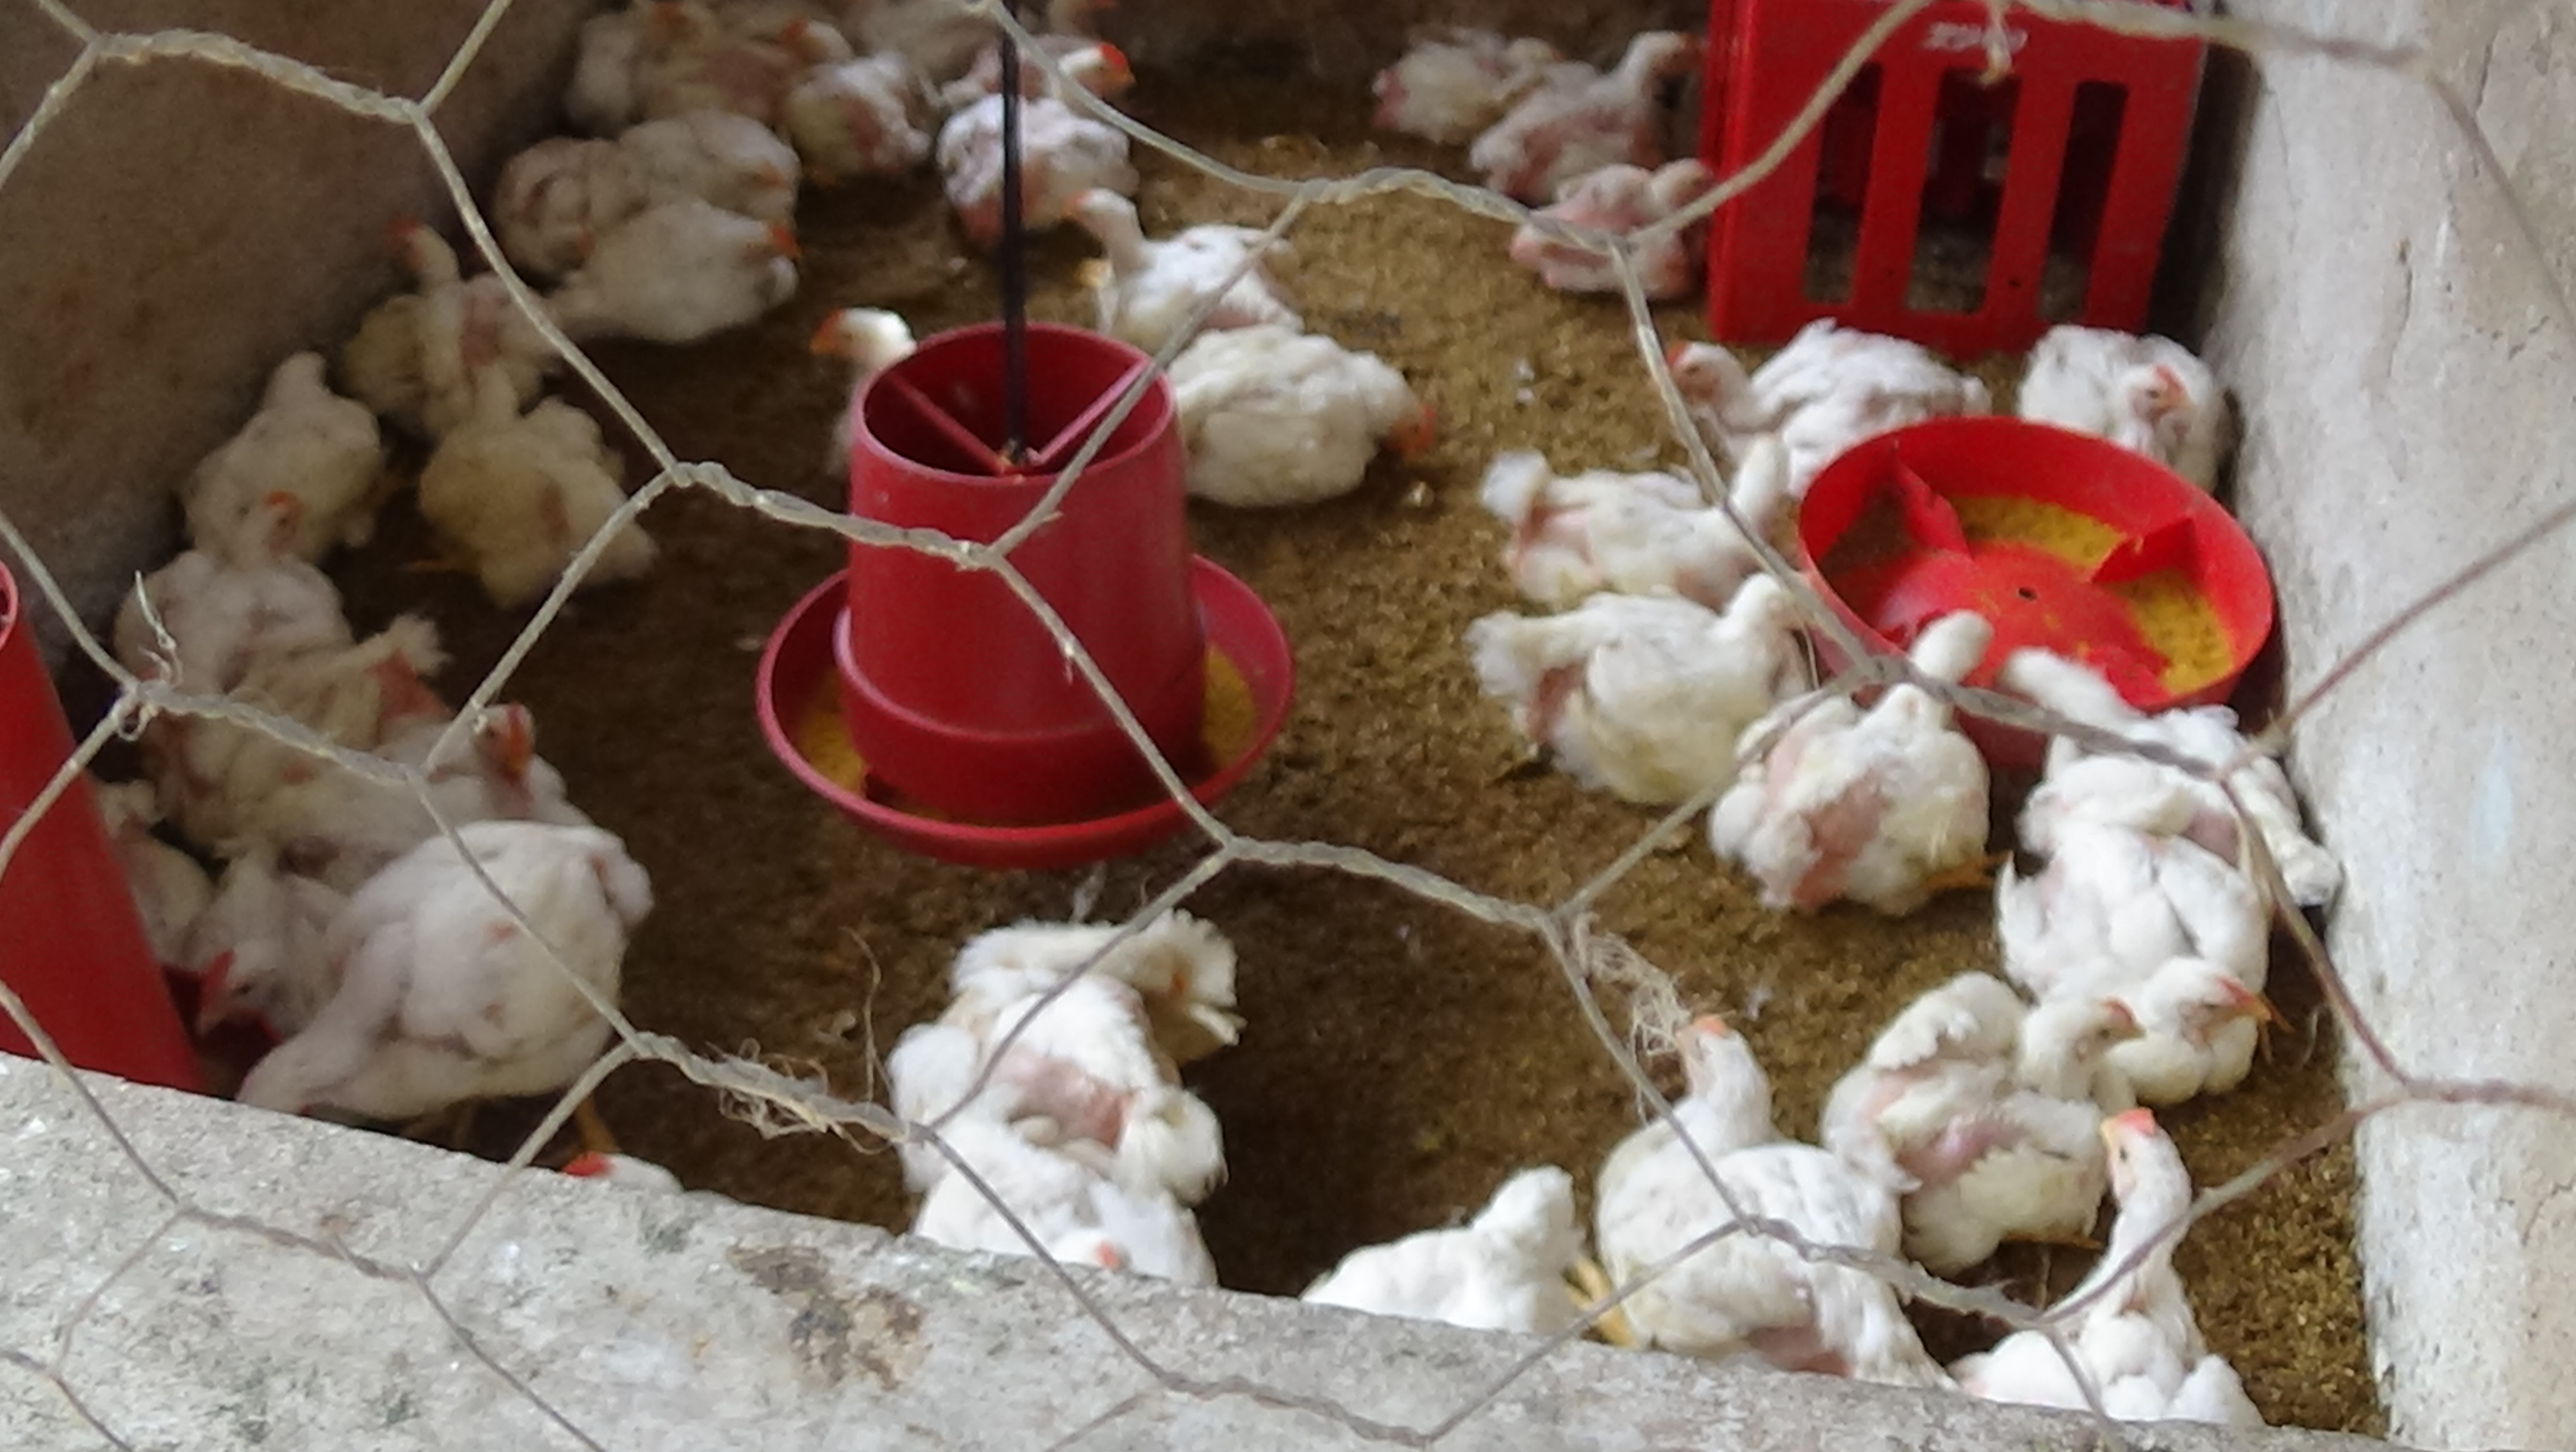Pollos: (244, 799, 674, 1188), (1571, 1006, 1897, 1355), (879, 912, 1265, 1179), (1838, 960, 2143, 1261), (1470, 558, 1821, 811), (1228, 1146, 1605, 1371), (2029, 786, 2284, 1108), (1727, 602, 2003, 896), (140, 616, 444, 848), (414, 331, 656, 620), (104, 471, 366, 710), (1148, 312, 1453, 510), (255, 696, 589, 875), (1654, 319, 1982, 483), (1495, 429, 1812, 593), (1996, 303, 2231, 496), (934, 42, 1155, 239), (1458, 14, 1714, 182), (182, 349, 393, 549), (541, 188, 803, 336), (791, 289, 966, 483), (1063, 170, 1277, 312), (189, 848, 347, 1039), (352, 216, 520, 391), (1516, 152, 1727, 292), (2093, 1103, 2194, 1358), (626, 0, 835, 122), (1350, 9, 1546, 133), (766, 25, 924, 175)
